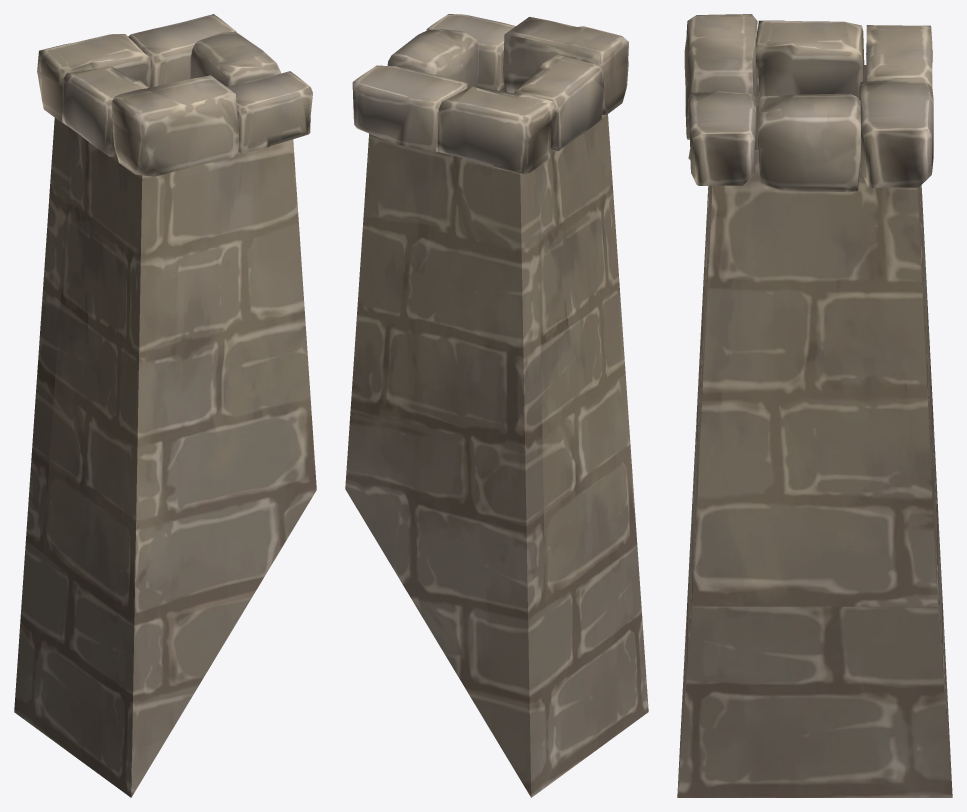
File: Prop_Chimney.gltf
3 renders of one model, left to right at view 1: azimuth 30°, elevation 25°; view 2: azimuth 150°, elevation 25°; view 3: azimuth 270°, elevation 25°, orthographic. The views are drawn at different scales.
Parts seen in each view (by area): view 1: Prop_Chimney; view 2: Prop_Chimney; view 3: Prop_Chimney.
Part boxes in pixels (x1,y1,x2,y2): Prop_Chimney: (14,14,316,797); Prop_Chimney: (345,14,648,797); Prop_Chimney: (677,14,952,797).
Size of the model in its own units: 0.9458 by 3.18 by 1.
Materials: 2 (2 with a texture image).
